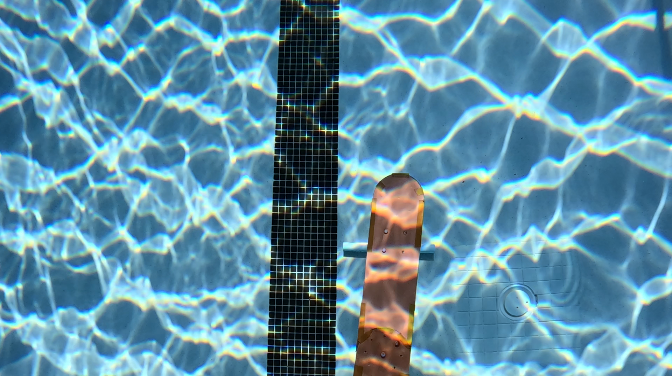pathmarker: (354, 174, 423, 375)
